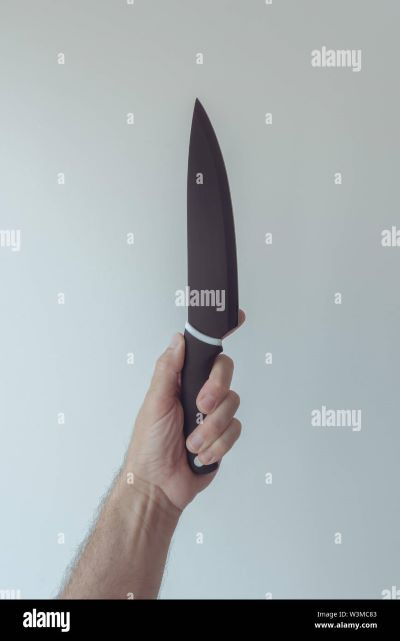knife: (163, 95, 243, 476)
